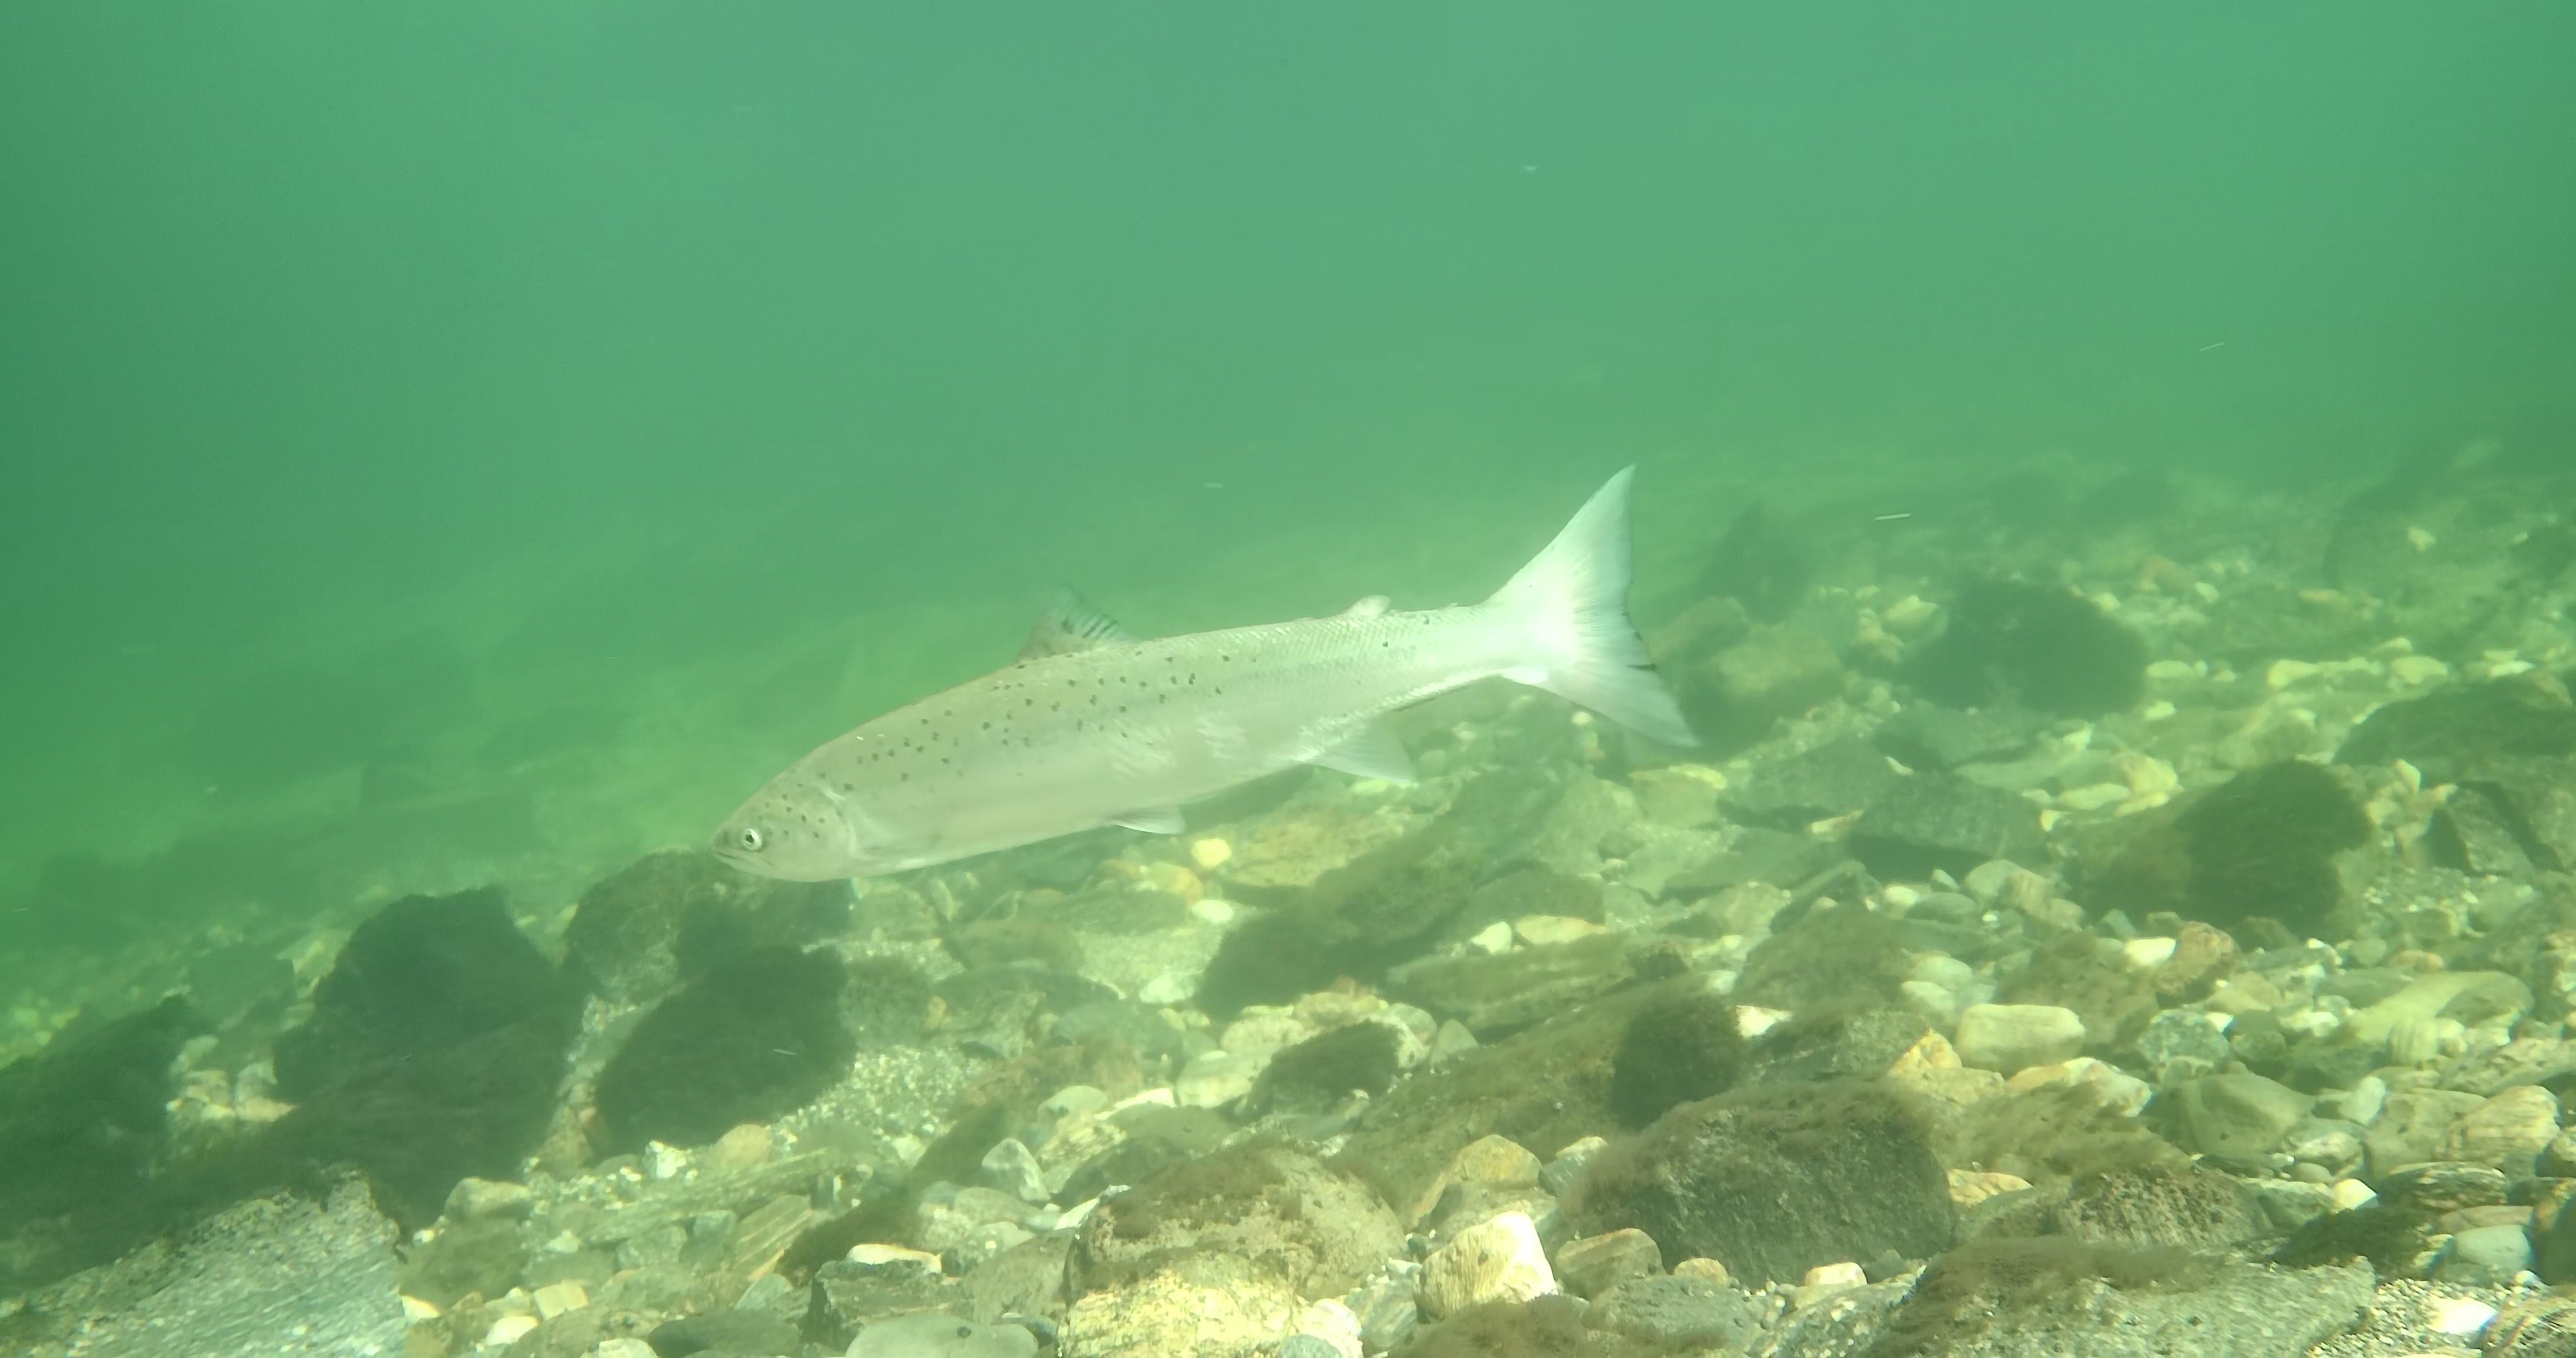salmon: (707, 462, 1705, 886)
